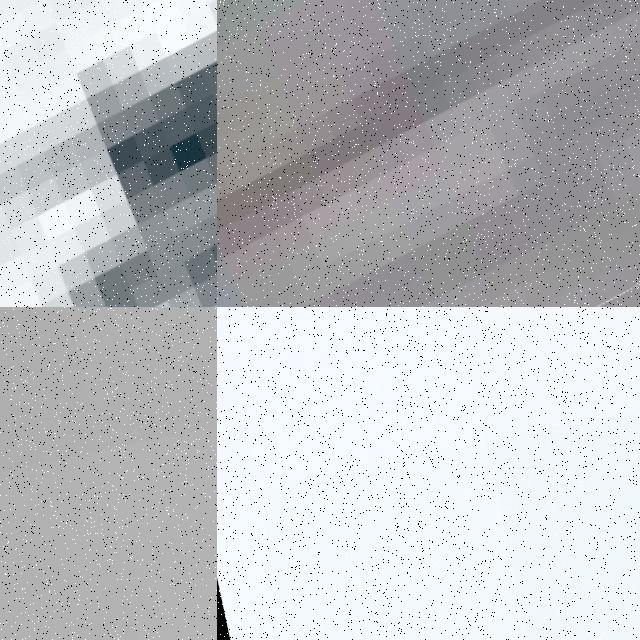0: (0, 0, 217, 307)
drone: (217, 0, 640, 307)
